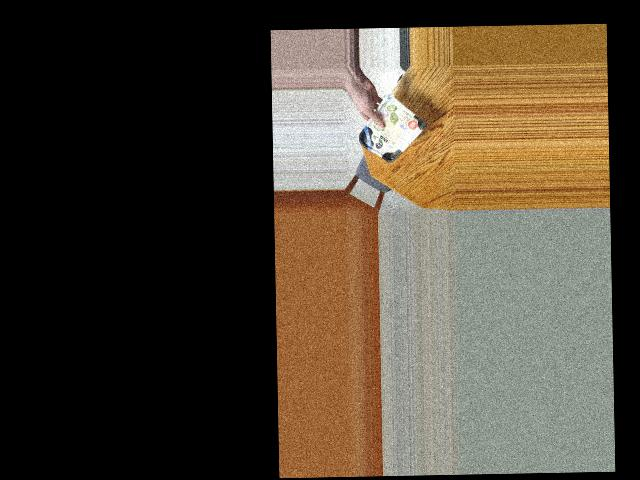cheese: (363, 105, 419, 163)
